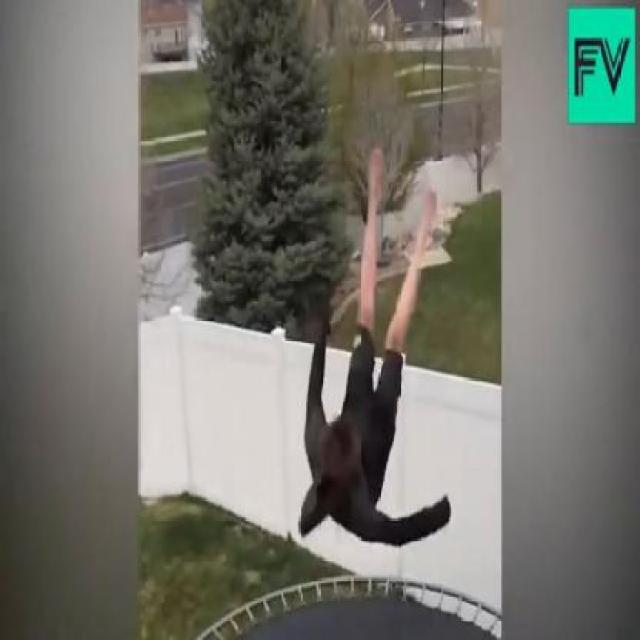fall: (296, 148, 462, 546)
